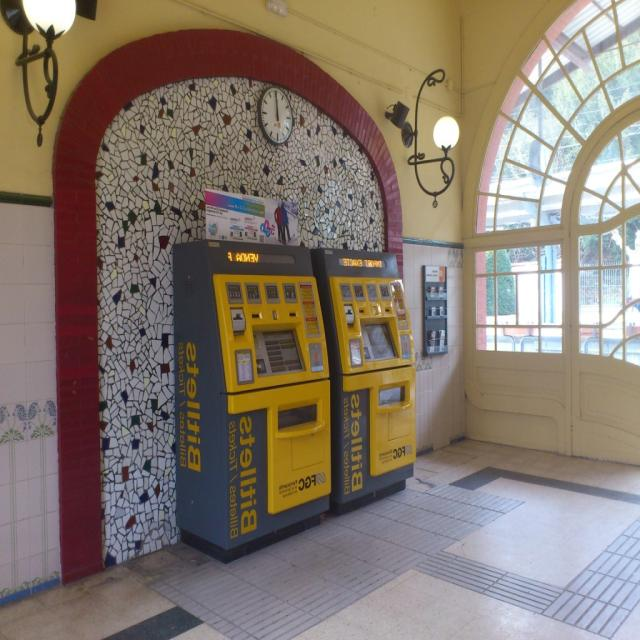maquina-tickets: (173, 236, 333, 564), (323, 242, 420, 515)
